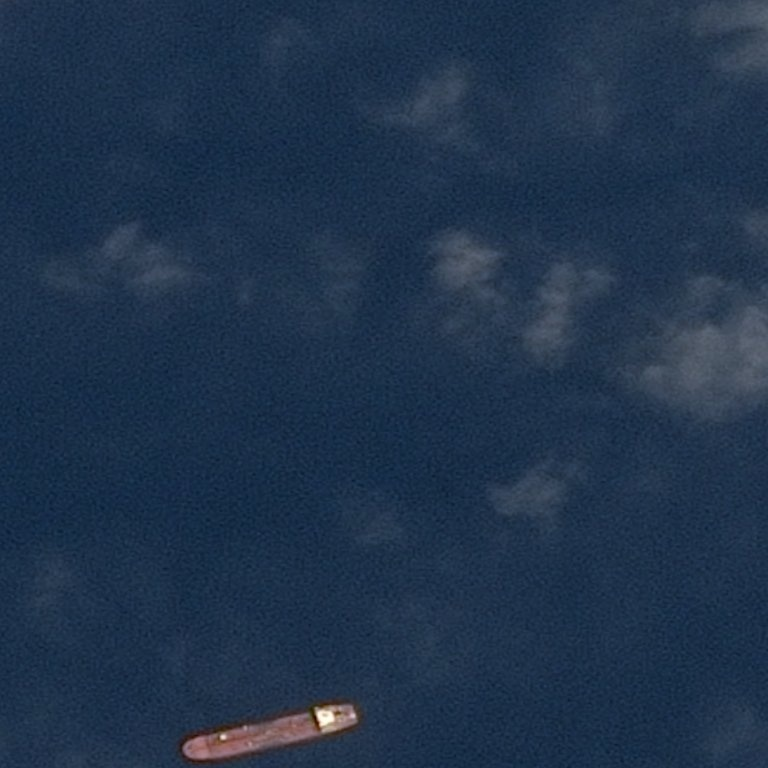ship: (183, 704, 357, 757)
